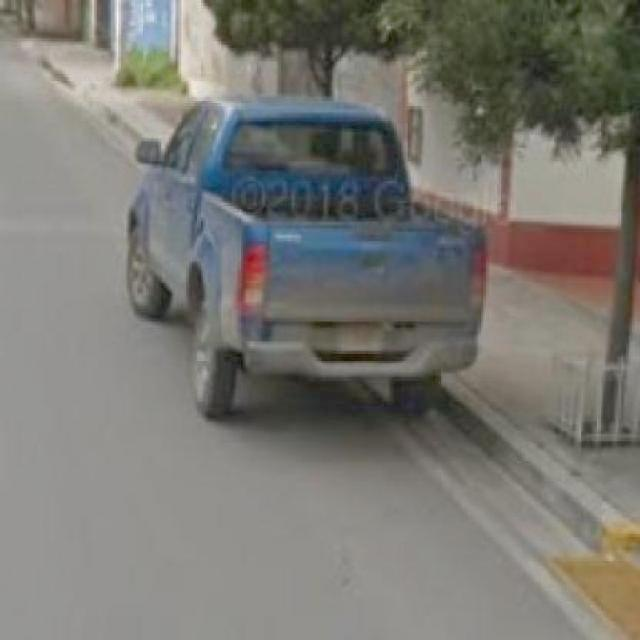car: (129, 98, 483, 431)
